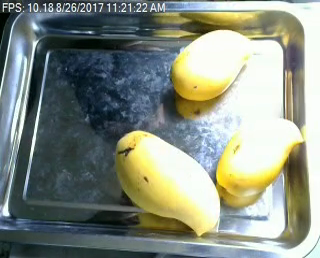Mango: (115, 130, 219, 235), (215, 116, 303, 195), (173, 27, 257, 101)
